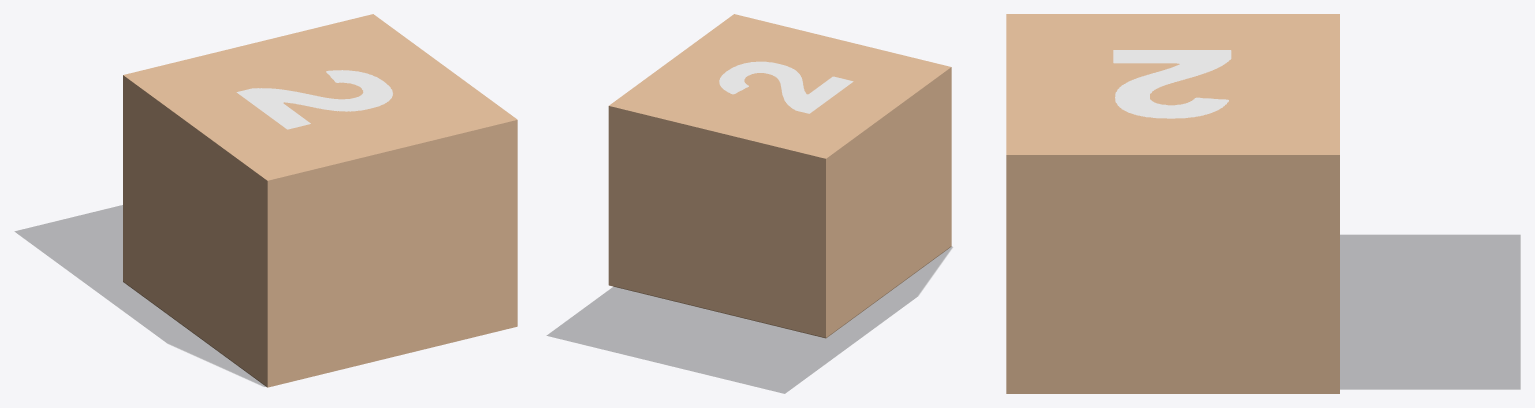
File: numbered_block_1.glb
The picture shows the model from 3 angles, left to right: view 1: azimuth 30°, elevation 25°; view 2: azimuth 150°, elevation 25°; view 3: azimuth 270°, elevation 25°; orthographic projection. The views are drawn at different scales.
Parts seen in each view (by area): view 1: hitObj, block, Object3D; view 2: hitObj, block, Object3D; view 3: hitObj, block, Object3D.
Part boxes in pixels (x1,y1,x2,y2): hitObj: (123, 14, 517, 387); block: (15, 205, 266, 386); Object3D: (236, 70, 392, 129); hitObj: (608, 14, 951, 338); block: (547, 246, 952, 393); Object3D: (719, 61, 853, 113); hitObj: (1006, 14, 1339, 393); block: (1340, 235, 1520, 389); Object3D: (1113, 50, 1231, 118).
Bounding box in the file's own units: 7.88 × 5.57 × 10.81.
Materials: 4 (3 with a texture image).
